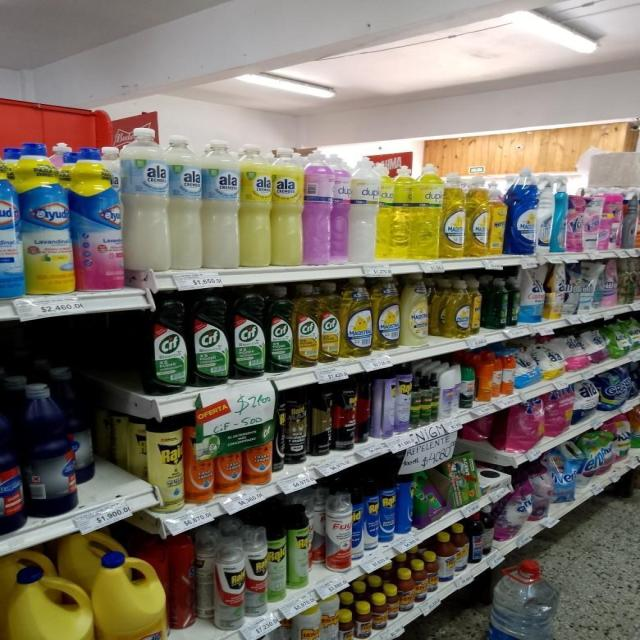ala_crem_amarillo: (272, 146, 304, 268), (240, 143, 271, 268)
ala_crem_blanco: (124, 127, 169, 274), (203, 137, 240, 270), (170, 132, 203, 272)
cif_conc_bot_amarilla: (294, 283, 319, 367), (320, 282, 341, 363)
cif_conc_botella_verde: (143, 291, 188, 394), (191, 287, 229, 386), (232, 284, 265, 378), (267, 284, 293, 373)
magistral_con_amarillo: (342, 277, 372, 357), (442, 172, 466, 258), (374, 275, 401, 350), (466, 174, 488, 257), (446, 279, 472, 338), (489, 177, 506, 256), (471, 278, 482, 336)
magistral_con_azul: (509, 172, 536, 255)
magistral_con_crema: (402, 272, 429, 346)
